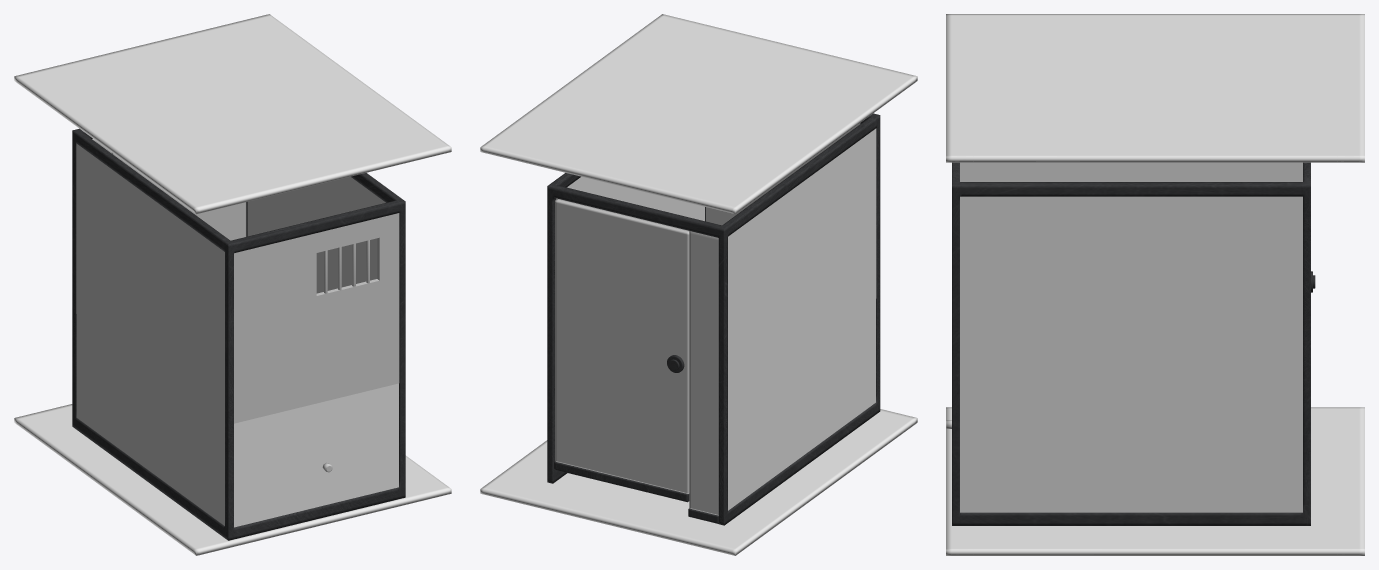
3 renders of one model, left to right at view 1: azimuth 30°, elevation 25°; view 2: azimuth 150°, elevation 25°; view 3: azimuth 270°, elevation 25°, orthographic. The views are drawn at different scales.
Visible parts, largest first — view 1: floor.001, Mwall_up, Rwall_up, Mwall_down, edges, Rwall_down, floor, Lwall_up, 门大; view 2: floor.001, 门大, Rwall_up, floor, Rwall_down, edges, 门小, Lwall_up, Mwall_up; view 3: Lwall_up, floor.001, Lwall_down, floor, edges, Rwall_up.
Part boxes in pixels (<box>): floor.001: <box>14,14,451,214</box>; Mwall_up: <box>234,213,399,423</box>; Rwall_up: <box>76,143,224,422</box>; Mwall_down: <box>234,383,398,527</box>; edges: <box>72,128,405,540</box>; Rwall_down: <box>76,314,224,525</box>; floor: <box>14,404,451,555</box>; Lwall_up: <box>247,176,385,293</box>; 门大: <box>112,152,246,240</box>; floor.001: <box>480,14,917,214</box>; 门大: <box>554,199,689,502</box>; Rwall_up: <box>728,128,876,406</box>; floor: <box>480,409,917,555</box>; Rwall_down: <box>728,299,875,510</box>; edges: <box>547,113,880,525</box>; 门小: <box>688,231,718,523</box>; Lwall_up: <box>556,176,704,230</box>; Mwall_up: <box>706,123,860,225</box>; Lwall_up: <box>960,196,1302,392</box>; floor.001: <box>946,14,1364,162</box>; Lwall_down: <box>960,393,1302,512</box>; floor: <box>946,407,1364,555</box>; edges: <box>952,162,1310,525</box>; Rwall_up: <box>960,162,1302,181</box>.
Size of the model in its own units: 358 by 465 by 442.
